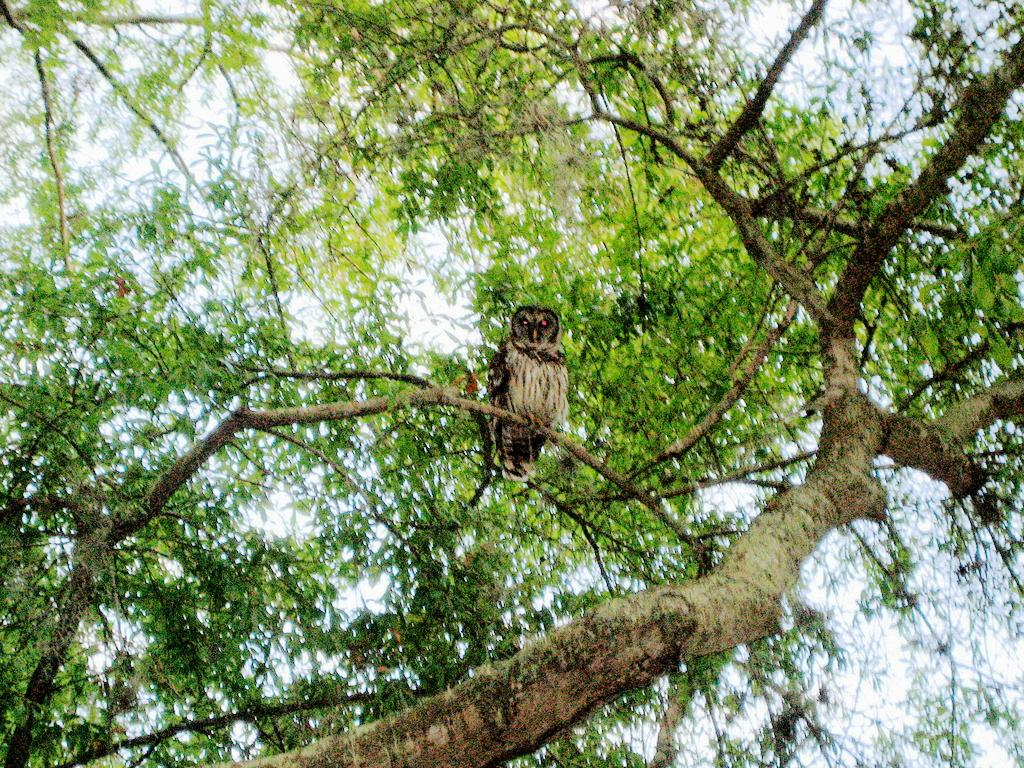Owl: (490, 308, 572, 481)
